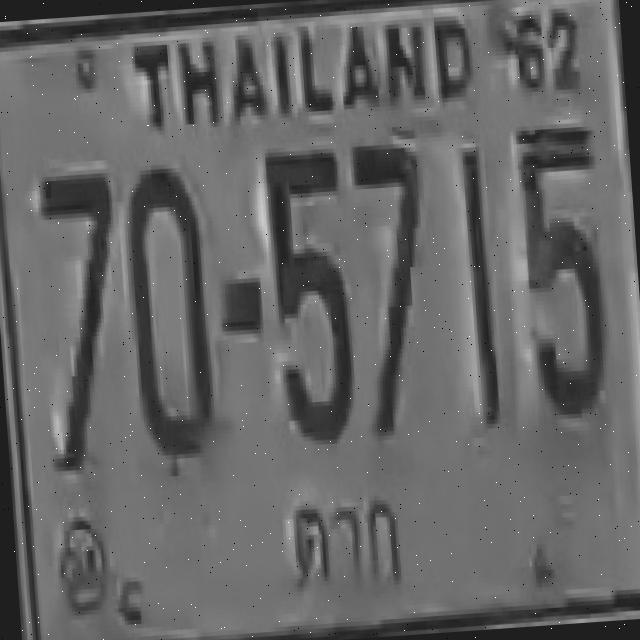0: (123, 162, 217, 461)
1: (458, 144, 501, 426)
5: (260, 144, 357, 442), (514, 119, 610, 414)
7: (36, 168, 128, 471), (347, 138, 436, 432), (36, 168, 120, 374)
Tak: (275, 478, 418, 619)
